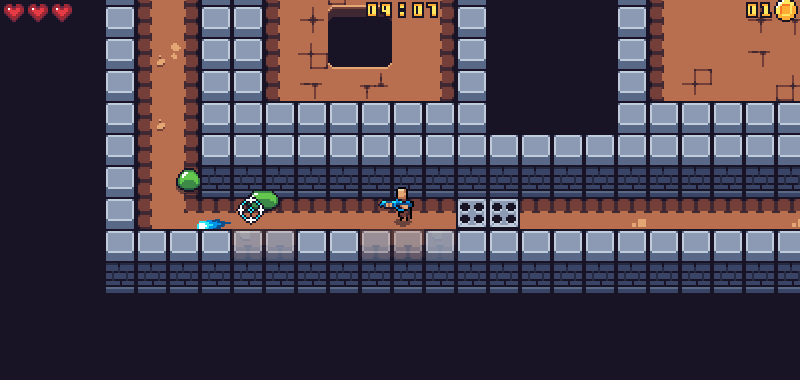enemy_slug: (249, 189, 280, 212), (176, 166, 200, 190)
trap_off: (457, 195, 519, 229)
